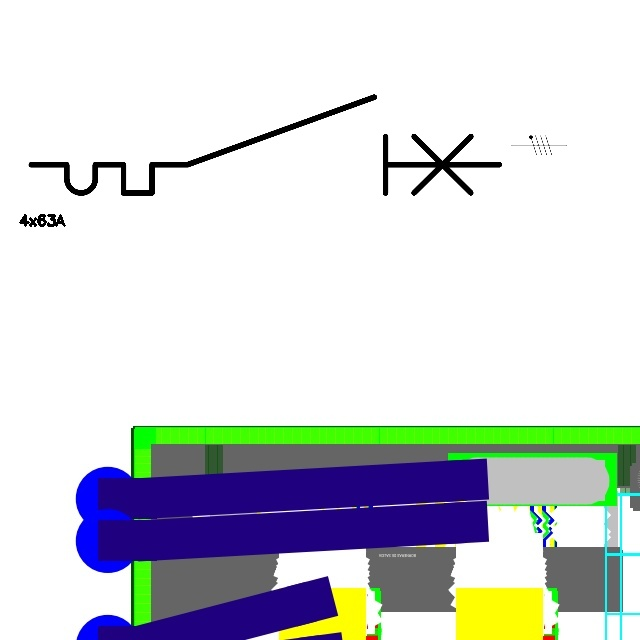interruptor_termomagnetico: (19, 85, 511, 205)
